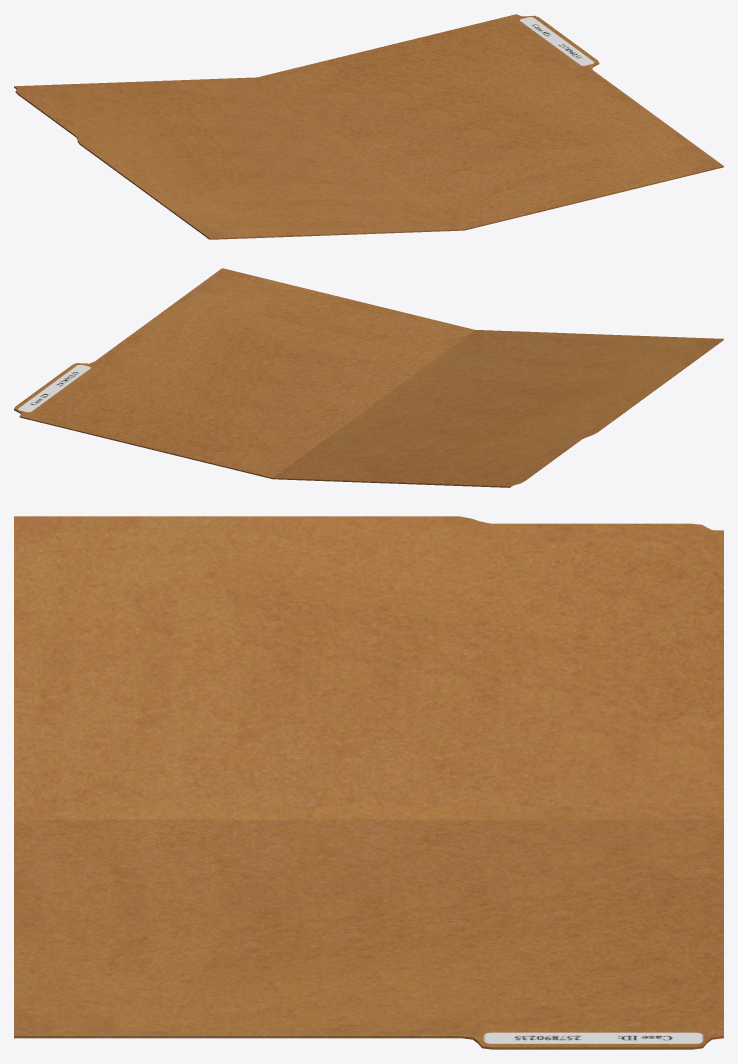
The model's file is case_file_open.glb.
The picture shows the model from 3 angles, top to bottom: view 1: azimuth 30°, elevation 25°; view 2: azimuth 150°, elevation 25°; view 3: azimuth 270°, elevation 25°; orthographic projection. The views are drawn at different scales.
Parts seen in each view (by area): view 1: CaseFileBottom.001, CaseFileTop.001; view 2: CaseFileBottom.001, CaseFileTop.001; view 3: CaseFileTop.001, CaseFileBottom.001.
Part boxes in pixels (x1,y1,x2,y2): CaseFileBottom.001: (257, 14, 723, 230); CaseFileTop.001: (14, 77, 463, 239); CaseFileBottom.001: (14, 268, 474, 479); CaseFileTop.001: (273, 330, 723, 487); CaseFileTop.001: (14, 516, 723, 819); CaseFileBottom.001: (14, 819, 723, 1049).
Size of the model in its own units: 0.4482 by 0.044 by 0.3052.
1 material, 1 textured.
